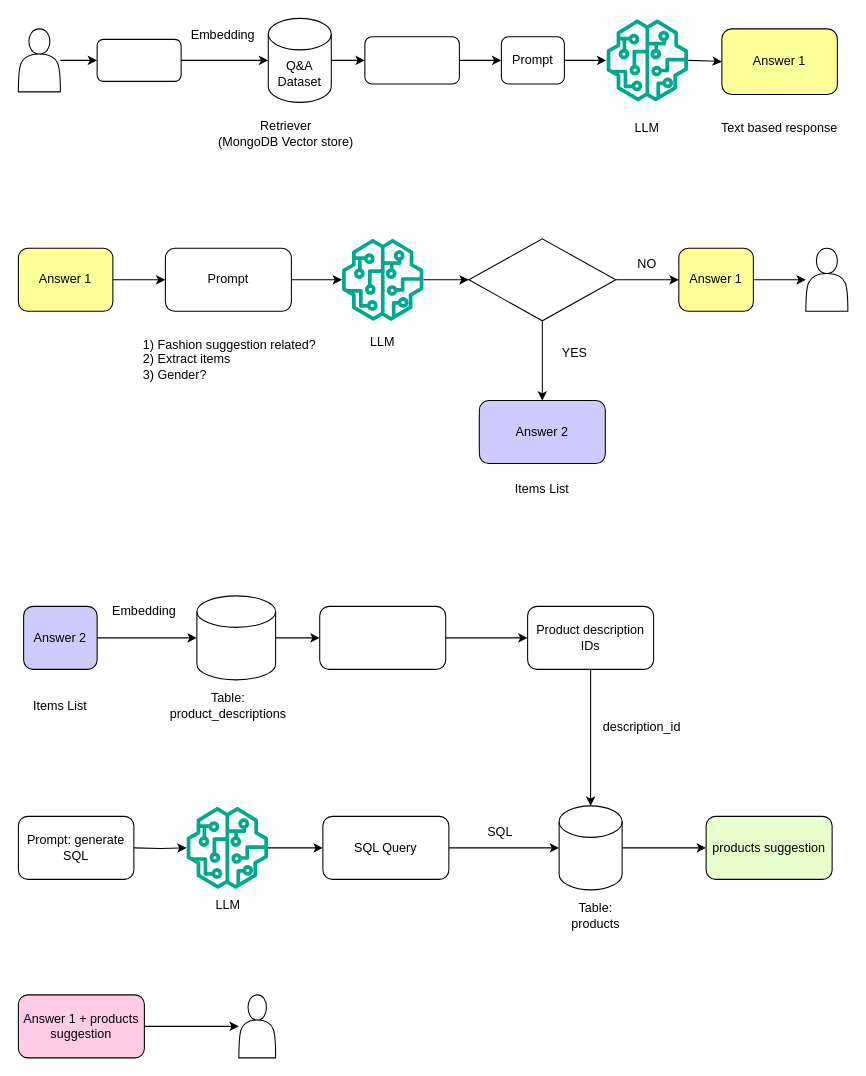
Some shapes in this 866 by 1076 pixel diagram are drawn without their labels. Each missing label, with the centre of its shape:
"Fashion suggestion related?" goes at point 542,279.
"pgVector" goes at point 236,637.
"Postgres" goes at point 590,847.
"Question" goes at point 138,59.
"Similar descriptions" goes at point 382,637.
"Similar Q&A" goes at point 411,60.
